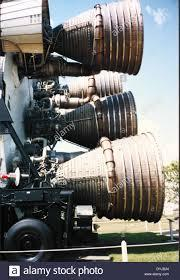thruster: (65, 130, 167, 226), (52, 0, 147, 77), (61, 88, 141, 152), (68, 66, 127, 103)
